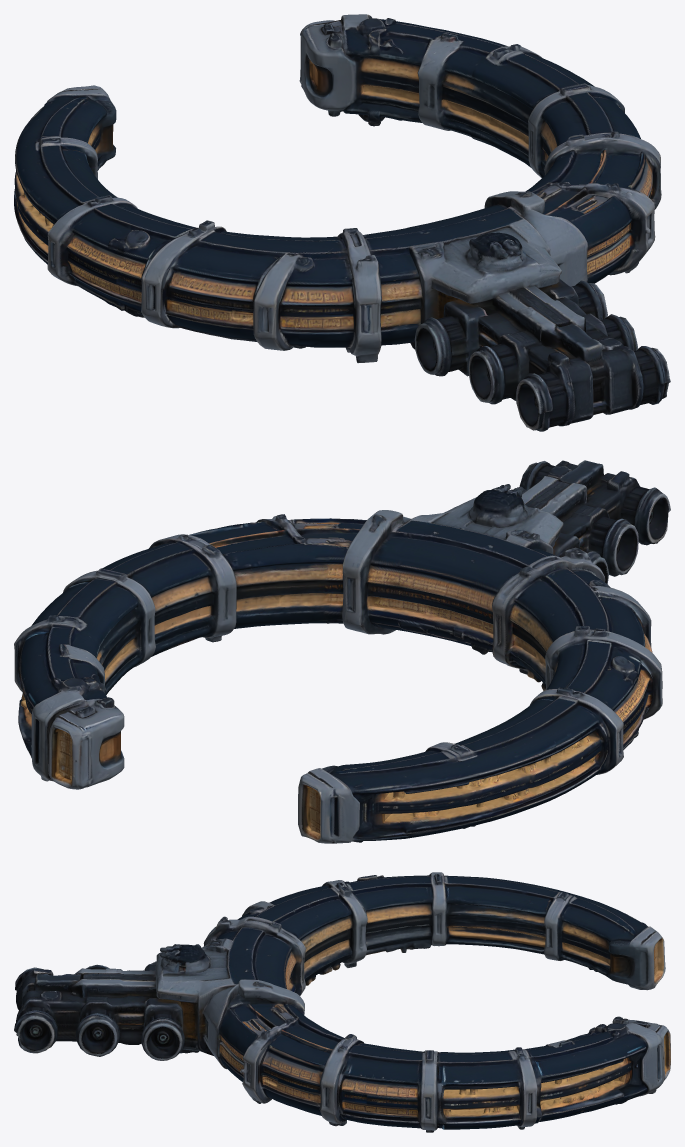
The model's file is wayfarer-tripo-h3_1.glb.
3 views of the same model, one above another, from view 1: azimuth 30°, elevation 25°; view 2: azimuth 150°, elevation 25°; view 3: azimuth 270°, elevation 25° (orthographic). The views are drawn at different scales.
Visible parts, largest first — view 1: tripo_node_d2af108d-bbc8-4217-8a2f-1877e2ebac71; view 2: tripo_node_d2af108d-bbc8-4217-8a2f-1877e2ebac71; view 3: tripo_node_d2af108d-bbc8-4217-8a2f-1877e2ebac71.
Boxes of the visible parts, x1,y1,x2,y2 form: tripo_node_d2af108d-bbc8-4217-8a2f-1877e2ebac71: (14,14,670,431); tripo_node_d2af108d-bbc8-4217-8a2f-1877e2ebac71: (14,460,670,843); tripo_node_d2af108d-bbc8-4217-8a2f-1877e2ebac71: (14,872,670,1132).
Size of the model in its own units: 0.7722 by 0.1713 by 1.
1 material, 1 textured.
